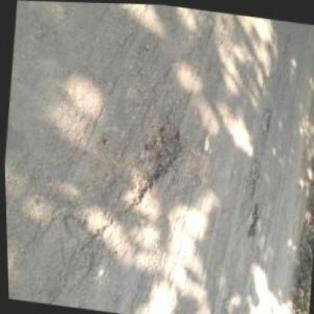Hueco: (119, 108, 186, 214), (239, 198, 260, 238), (257, 103, 271, 135)
